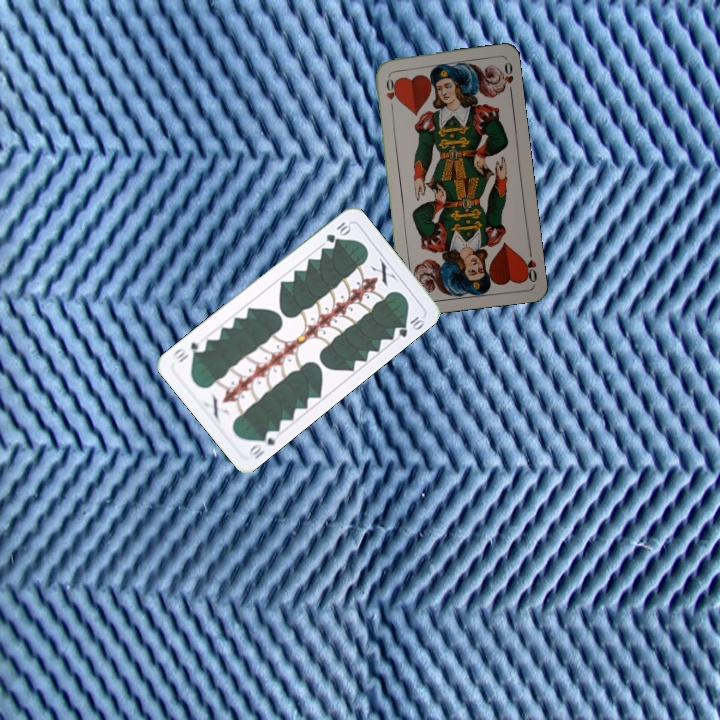G10: (244, 426, 281, 462), (322, 218, 353, 246)
HO: (520, 245, 540, 285), (382, 72, 398, 113)
